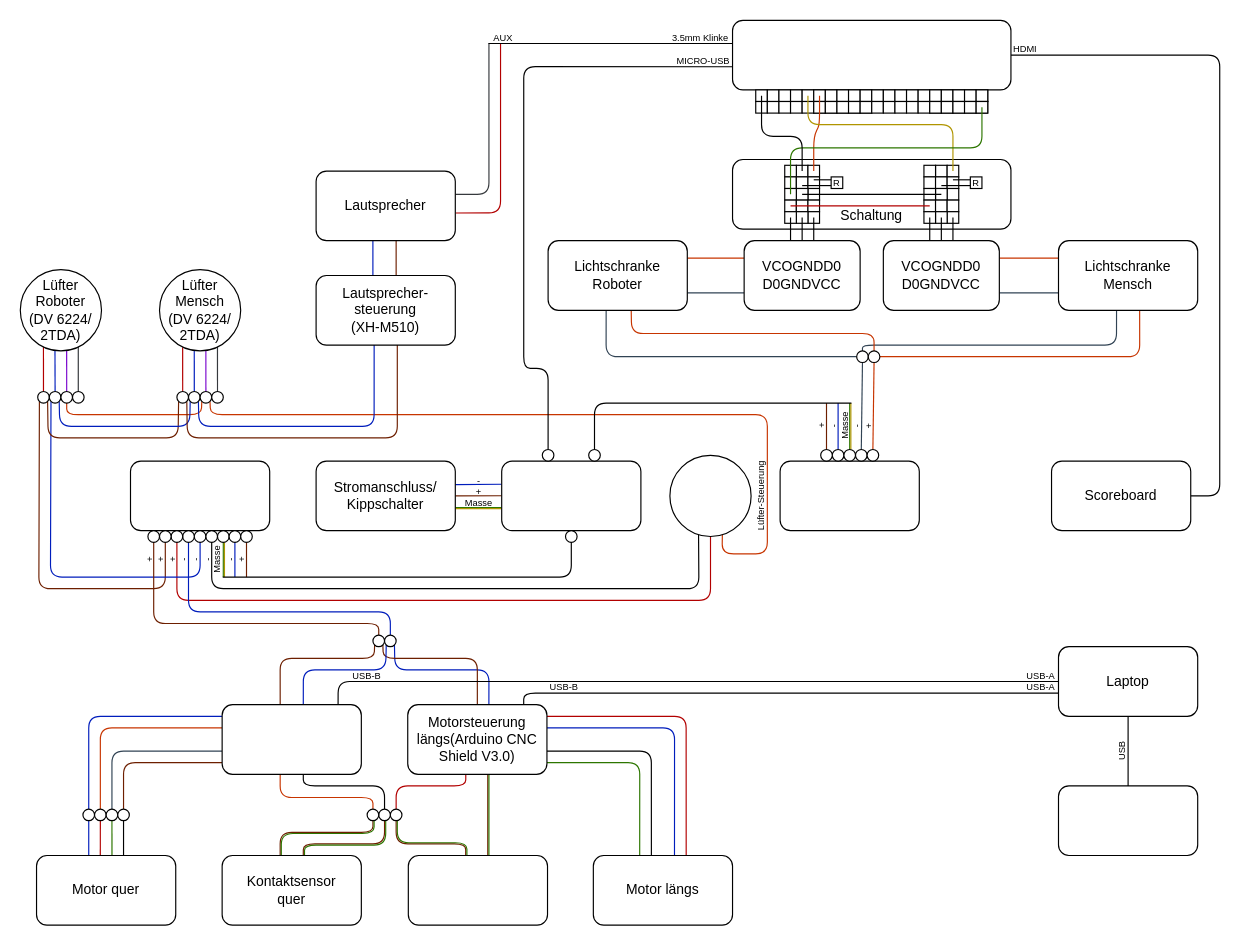
Some shapes in this 1241 by 945 pixel diagram are drawn without their labels. The centre of each missing label's shape, as x and y in pixels:
Dreh- widerstand (ab 10K): (710,495)
Dreifachsteckdose: (571,495)
Großes Netzteil (S-360-24): (199,495)
Kamera: (1127,820)
Kleines Netzteil (S-30-5): (849,495)
Kontaktsensor längs: (477,889)
Motorsteuerung quer (Arduino CNC Shield V3.0): (291,739)
Raspberry Pi: (871,54)
